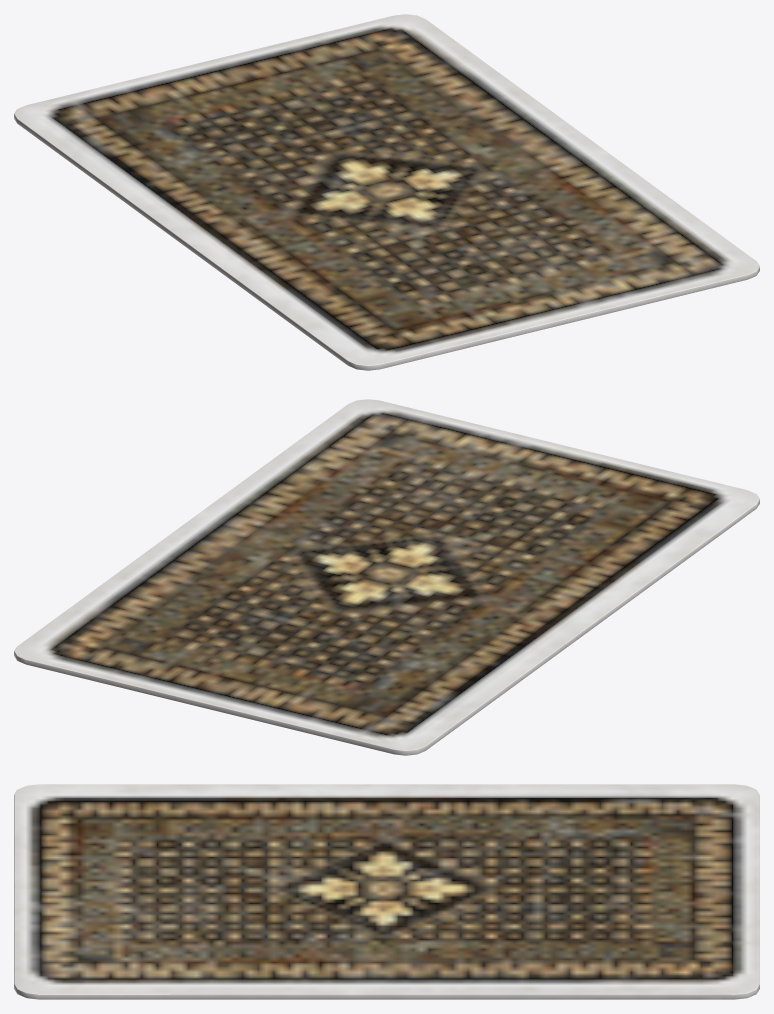
The model's file is card1.fbx.
3 views of the same model, one above another, from view 1: azimuth 30°, elevation 25°; view 2: azimuth 150°, elevation 25°; view 3: azimuth 270°, elevation 25° (orthographic). The views are drawn at different scales.
Visible parts, largest first — view 1: spades10_playingCards_Mat_0; view 2: spades10_playingCards_Mat_0; view 3: spades10_playingCards_Mat_0.
Part boxes in pixels (bbox=[...]): spades10_playingCards_Mat_0: bbox=[14, 14, 759, 370]; spades10_playingCards_Mat_0: bbox=[14, 399, 759, 755]; spades10_playingCards_Mat_0: bbox=[14, 784, 759, 999].
Bounding box in the file's own units: 8 × 0.1 × 12.
1 material, 1 textured.
